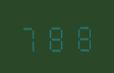eight: (69, 19, 93, 52), (44, 20, 68, 52)
seven: (18, 20, 42, 53)
